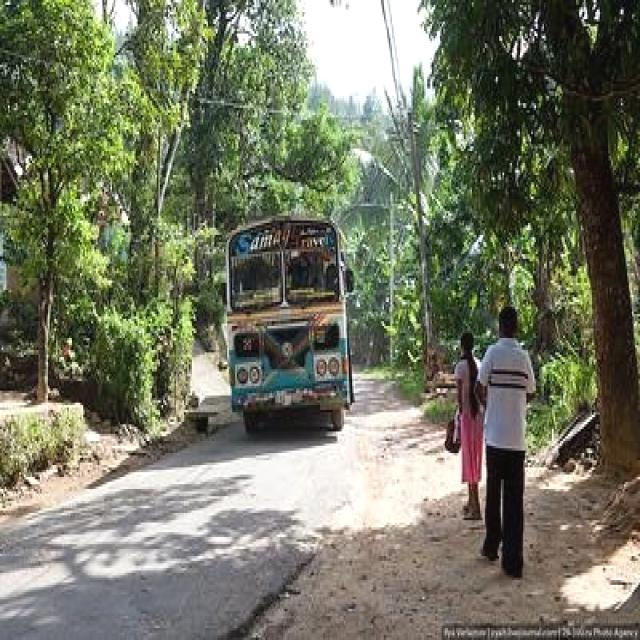Bus: (218, 203, 360, 446)
